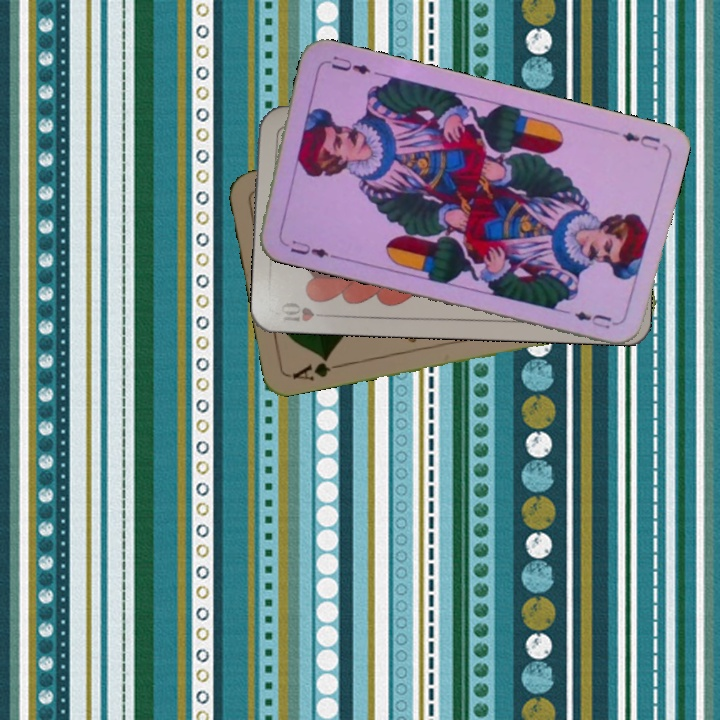EU: (279, 236, 337, 261), (618, 128, 663, 153)
GA: (288, 352, 346, 383)
H10: (275, 298, 334, 325)
